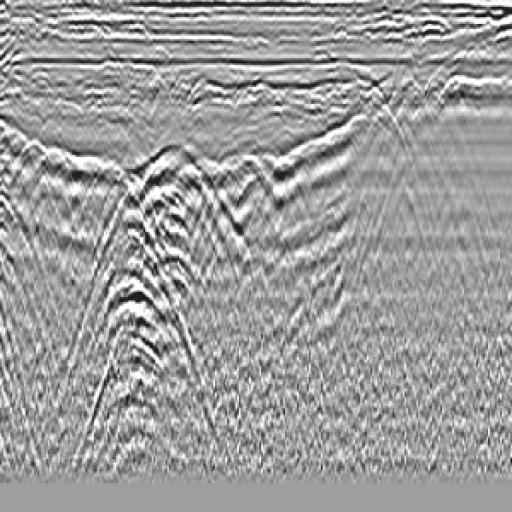metalic: (210, 115, 349, 289)
